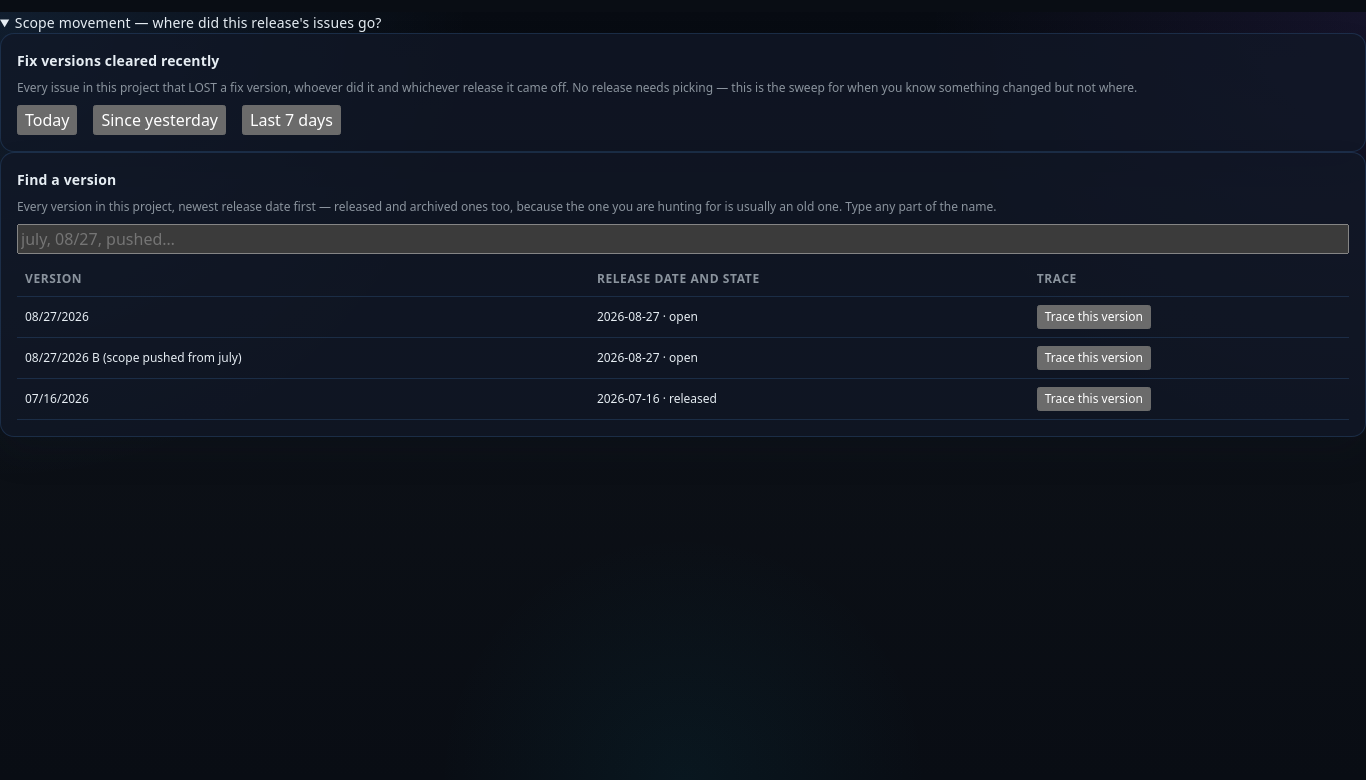
Test: VersionMovementPanel — finding the version › finds a renamed version from any part of its name
Check: the text "08/27/2026" is shown, box left=17, top=296, right=589, bottom=338
In the field named "Filter versions": (683, 239) left=17, top=224, right=1349, bottom=254, type "july"
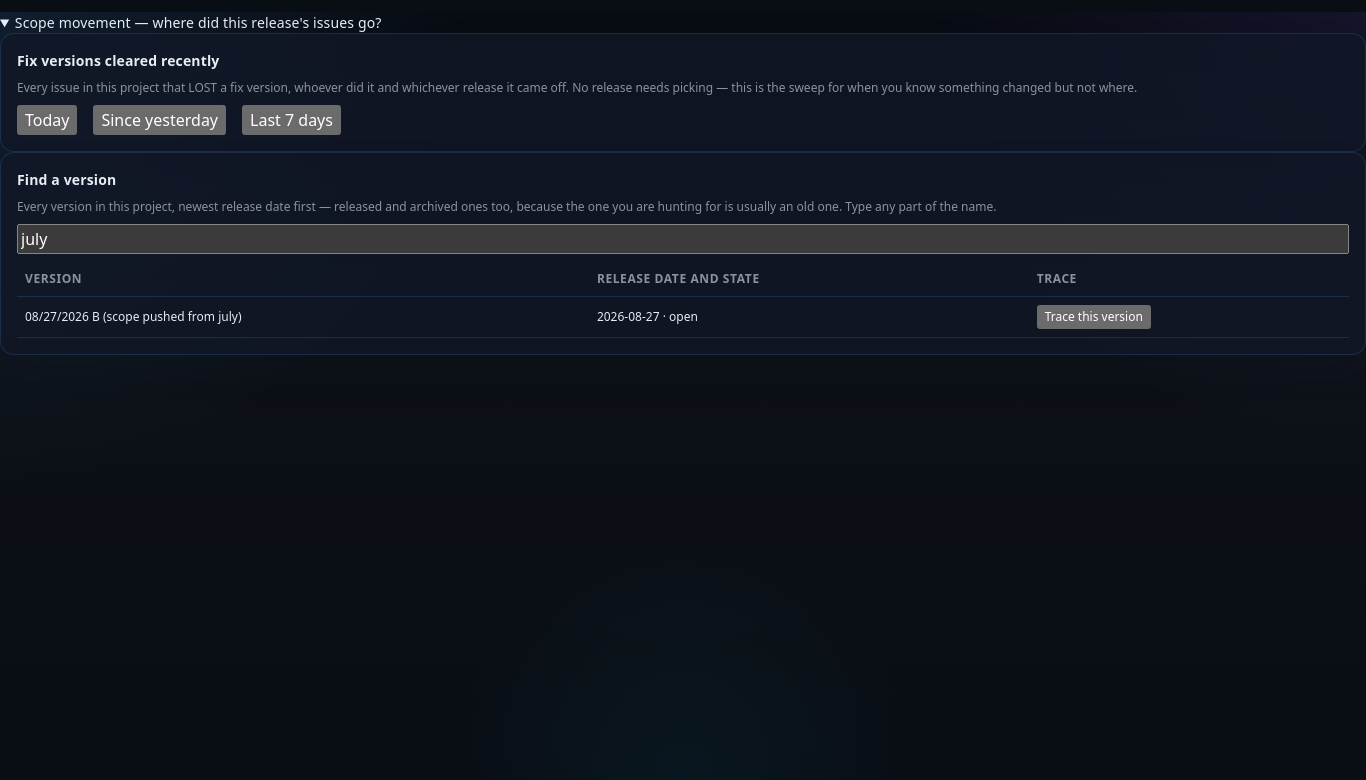
Check: the text "08/27/2026 B (scope pushed from july)" is shown, box left=17, top=296, right=589, bottom=338
Check: the text "07/16/2026" is gone
